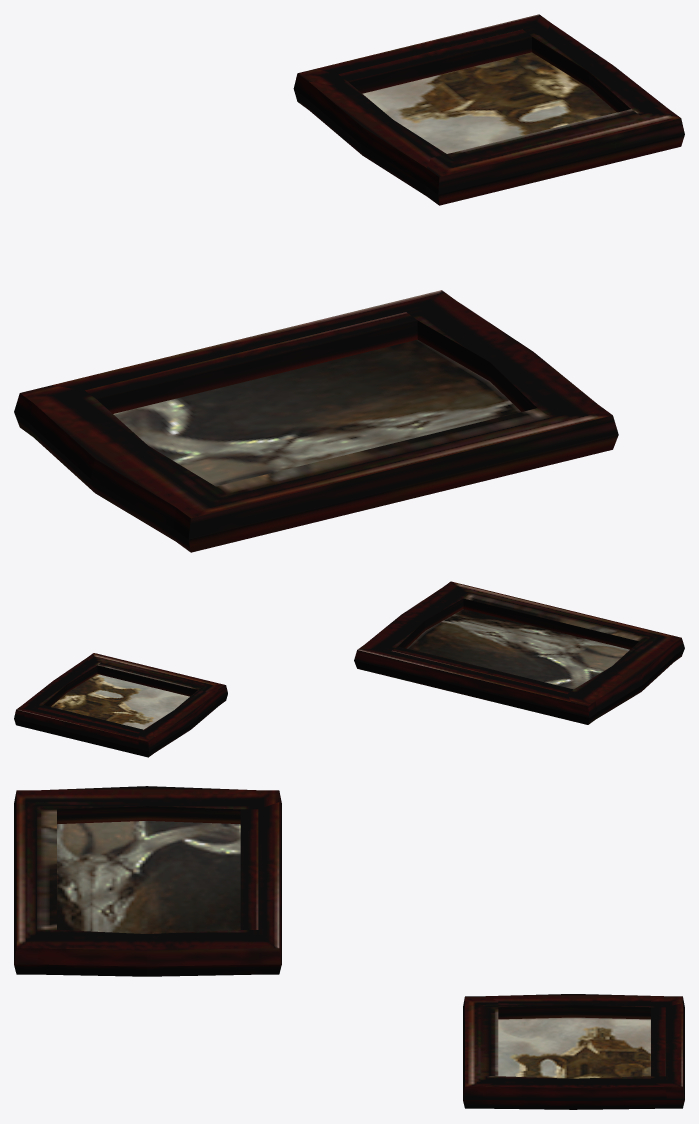
3 renders of one model, top to bottom at view 1: azimuth 30°, elevation 25°; view 2: azimuth 150°, elevation 25°; view 3: azimuth 270°, elevation 25°, orthographic. The views are drawn at different scales.
Parts seen in each view (by area): view 1: картина.003, картина.004; view 2: картина.003, картина.004; view 3: картина.003, картина.004.
Boxes of the visible parts, x1,y1,x2,y2 form: картина.003: [14, 290, 618, 552]; картина.004: [293, 14, 684, 205]; картина.003: [354, 581, 684, 724]; картина.004: [14, 653, 227, 757]; картина.003: [14, 786, 281, 976]; картина.004: [463, 994, 684, 1109].
Bounding box in the file's own units: 512 × 20.95 × 483.
2 materials, 2 textured.
